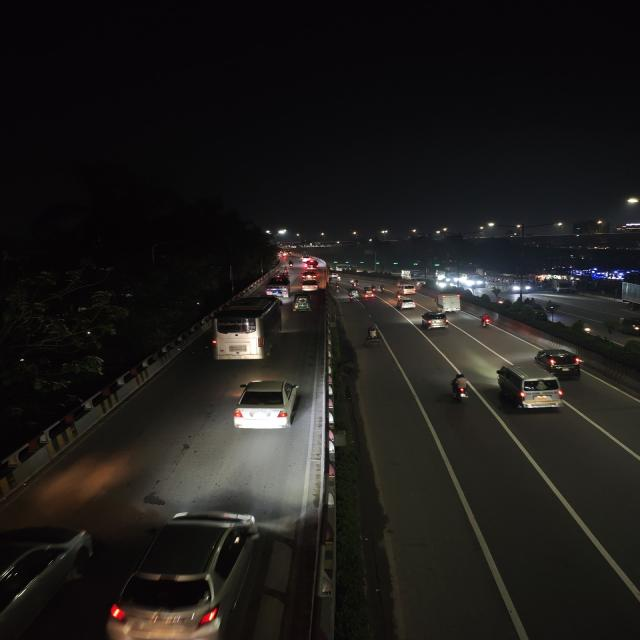bus: (210, 296, 285, 366), (486, 273, 534, 294), (454, 272, 482, 288)
car: (106, 504, 277, 640), (228, 377, 303, 435), (494, 363, 567, 414), (532, 347, 586, 377), (420, 310, 451, 330), (396, 296, 418, 310), (300, 279, 322, 292), (300, 270, 320, 281)
cng: (617, 316, 640, 336), (292, 294, 313, 314), (330, 272, 342, 282)
motorcycle: (445, 371, 475, 408), (362, 325, 384, 347), (477, 312, 497, 328), (285, 260, 295, 269)
pickup_van: (264, 272, 287, 297)
truck: (619, 278, 640, 312), (436, 292, 464, 313), (551, 279, 575, 291)
